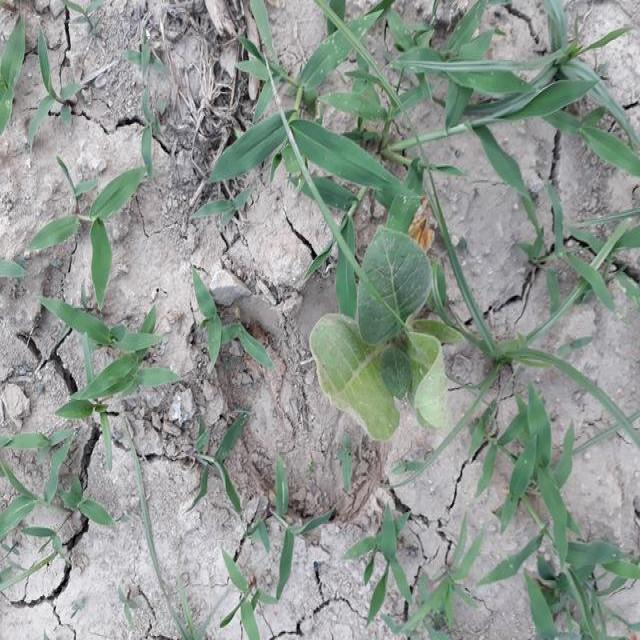crop: (309, 234, 456, 436)
